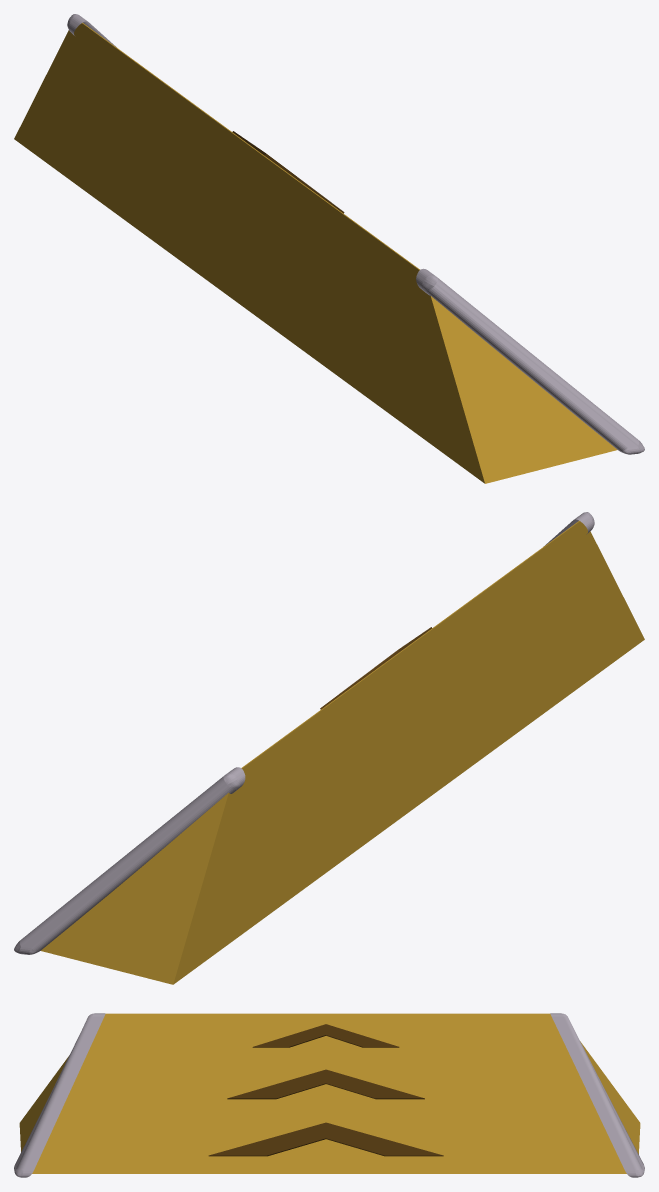
The model's file is FirstRump.fbx.
3 views of the same model, one above another, from view 1: azimuth 30°, elevation 25°; view 2: azimuth 150°, elevation 25°; view 3: azimuth 270°, elevation 25° (orthographic). The views are drawn at different scales.
Parts seen in each view (by area): view 1: Cube, Cube.004; view 2: Cube, Cube.004; view 3: Cube, Cube.004, Cube.003, Cube.002, Cube.001.
Boxes of the visible parts, bbox=[...] form: Cube: bbox=[14, 22, 617, 483]; Cube.004: bbox=[67, 14, 644, 454]; Cube: bbox=[41, 520, 644, 984]; Cube.004: bbox=[14, 512, 594, 954]; Cube: bbox=[19, 1013, 640, 1173]; Cube.004: bbox=[14, 1013, 644, 1177]; Cube.003: bbox=[208, 1122, 443, 1156]; Cube.002: bbox=[227, 1069, 424, 1099]; Cube.001: bbox=[252, 1024, 399, 1047].
Bounding box in the file's own units: 209 × 208 × 1047.
